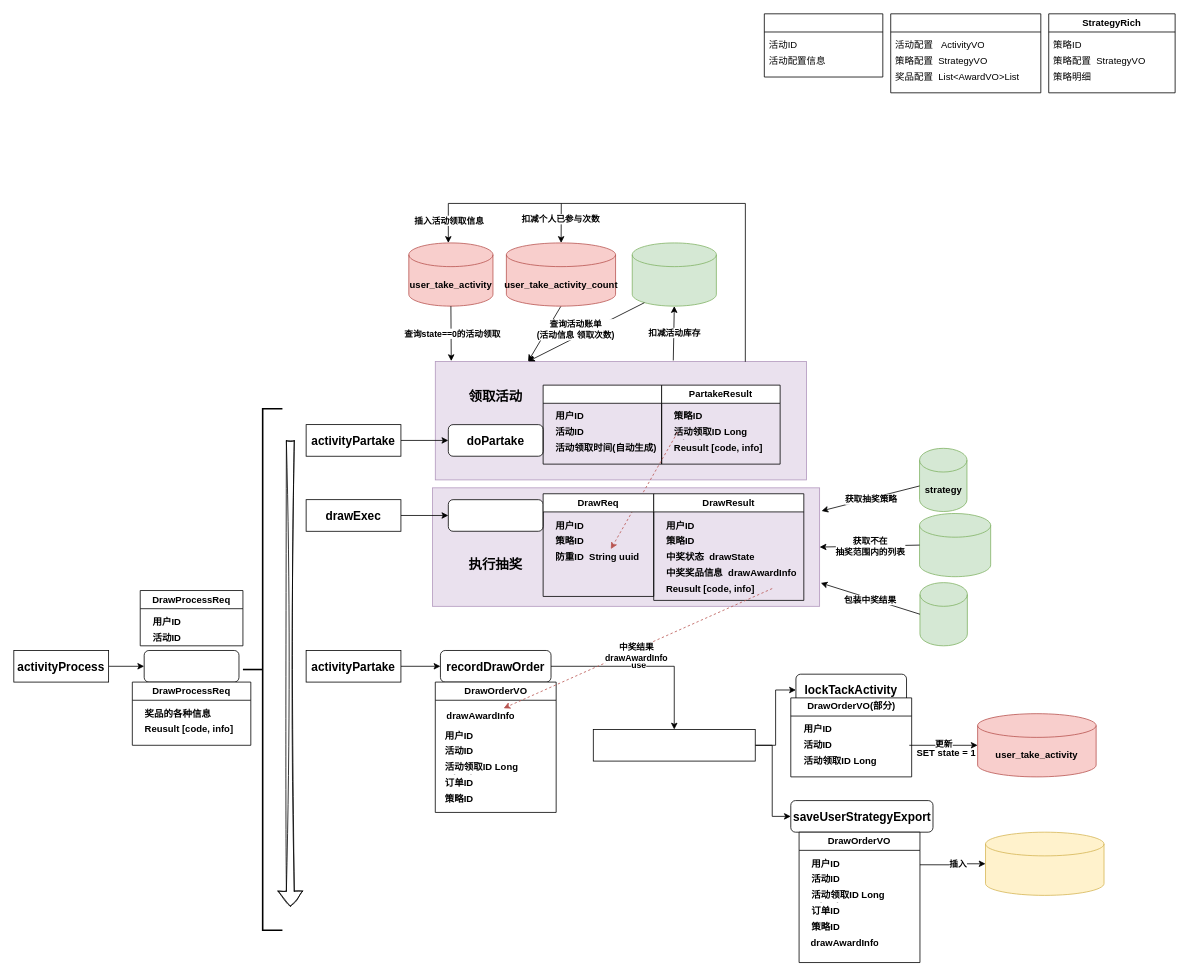
This 1189x976 diagram has some shape labels left out. Here are the shapes that lost their labels. From the top down, the box of each, then its label:
(764, 13, 883, 77): ActivityConfigReq
(890, 13, 1041, 93): ActivityConfigRich
(631, 242, 716, 306): activity
(542, 384, 662, 464): PartakeReq
(448, 499, 543, 531): doDrawExec
(919, 513, 991, 577): strategy_details
(919, 582, 967, 646): award
(143, 650, 239, 682): doDrawProcess
(592, 729, 755, 761): userTakeActivityRepository
(985, 831, 1104, 895): user_strategy_export_00x
